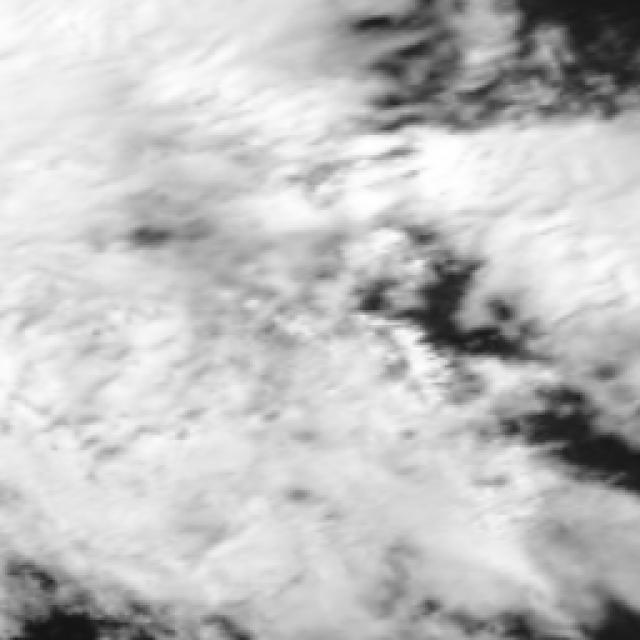CB: (0, 1, 347, 556)
